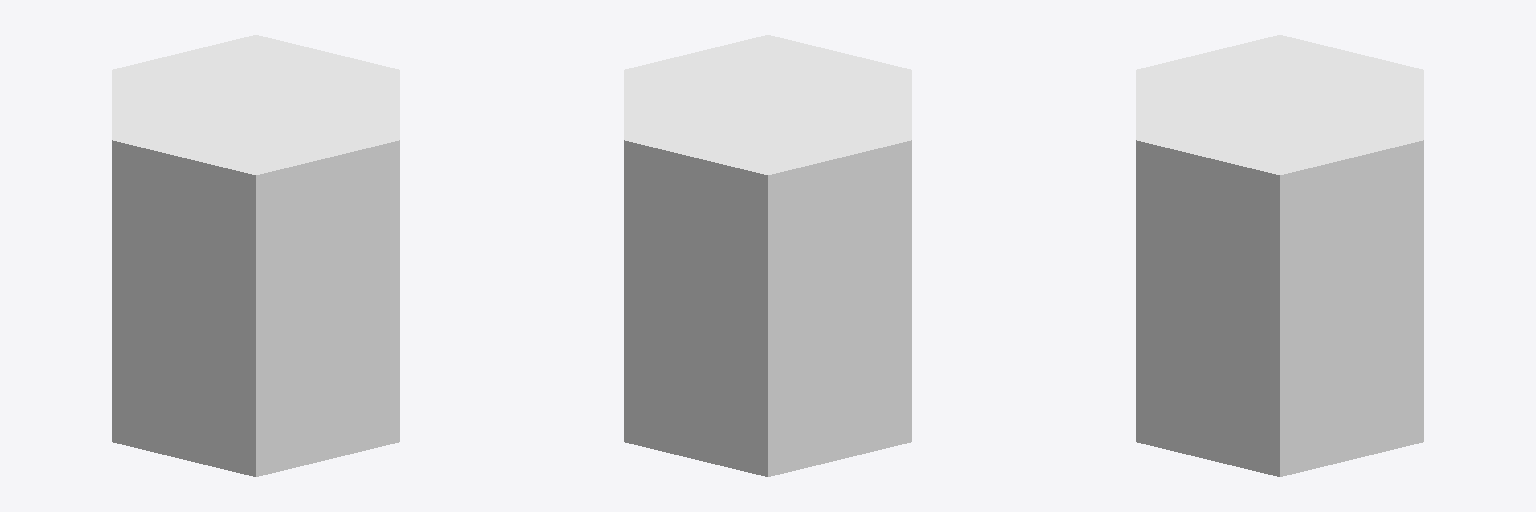
File: hex.obj
3 views of the same model, side by side, from view 1: azimuth 30°, elevation 25°; view 2: azimuth 150°, elevation 25°; view 3: azimuth 270°, elevation 25° (orthographic).
Parts seen in each view (by area): view 1: hex; view 2: hex; view 3: hex.
Part boxes in pixels (x1,y1,x2,y2): hex: (112,35,399,476); hex: (624,35,911,476); hex: (1136,35,1423,476).
Size of the model in its own units: 2 by 2 by 1.73.